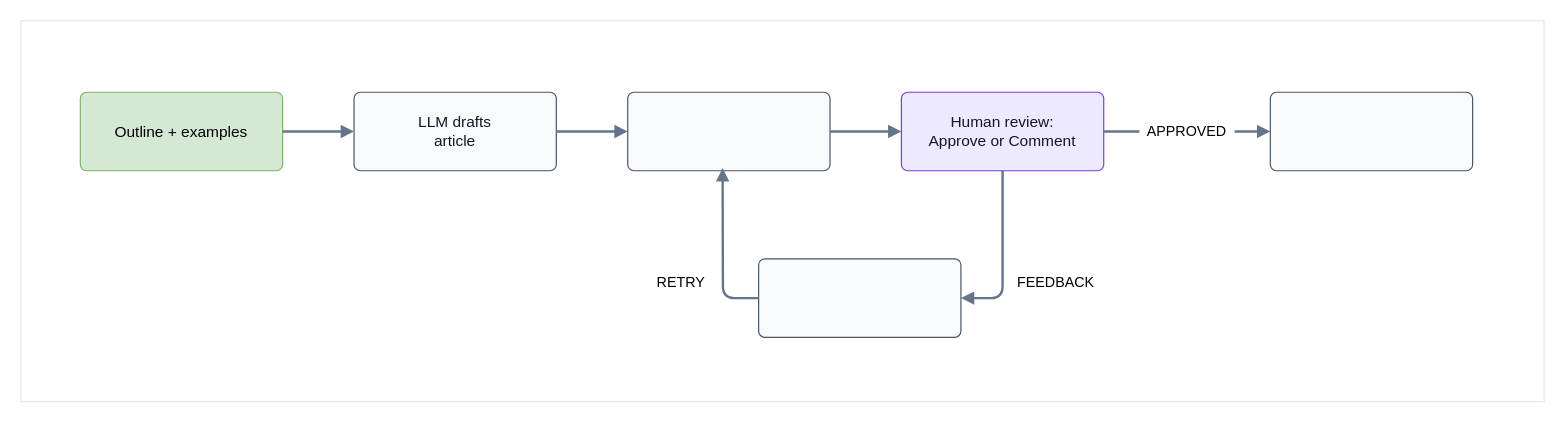
This 1565x422 diagram has some shape labels left out. The shapes that lost their labels are listed below. From the top down, each one's box as (x1, y1, x2, y2) in pixels, then its label:
(627, 91, 830, 171): AI evaluator reviews draft
(1269, 91, 1473, 171): Final assets thumbnail + LinkedIn
(757, 258, 961, 337): Improve draft if needed
